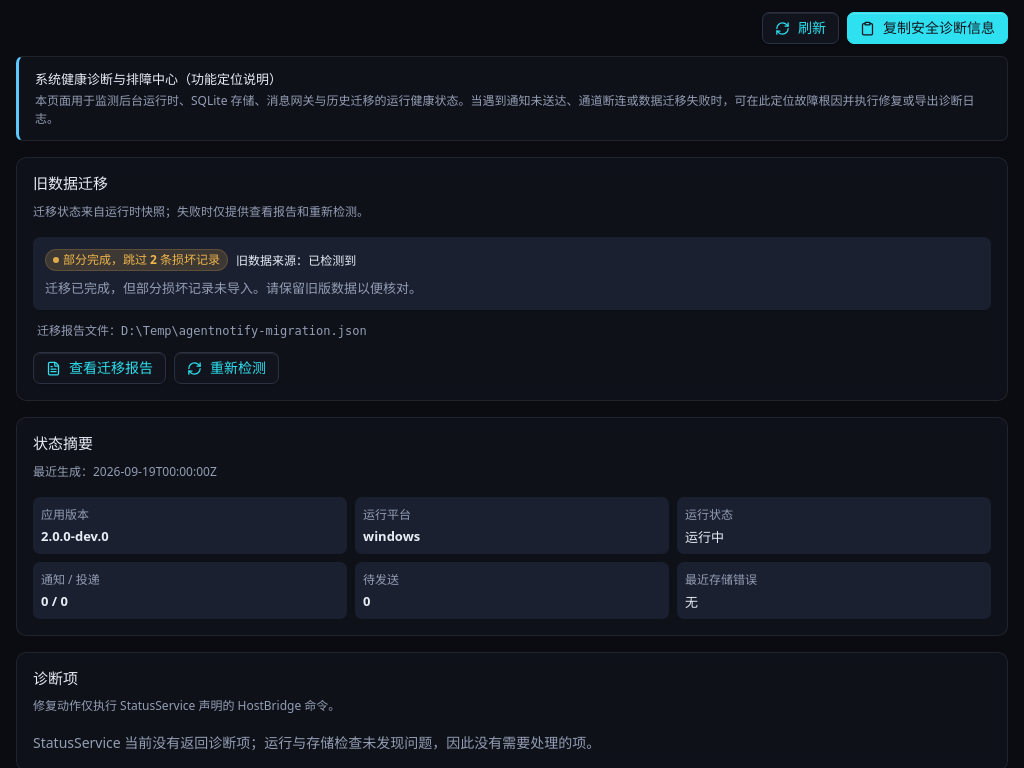
MigrationDiagnostics › shows skipped records and opens the migration report
Check: the text "部分完成，跳过 2 条损坏记录" is shown, box 45,249 -> 228,271
Click the button "查看迁移报告": (100, 368) 33,352 -> 166,384
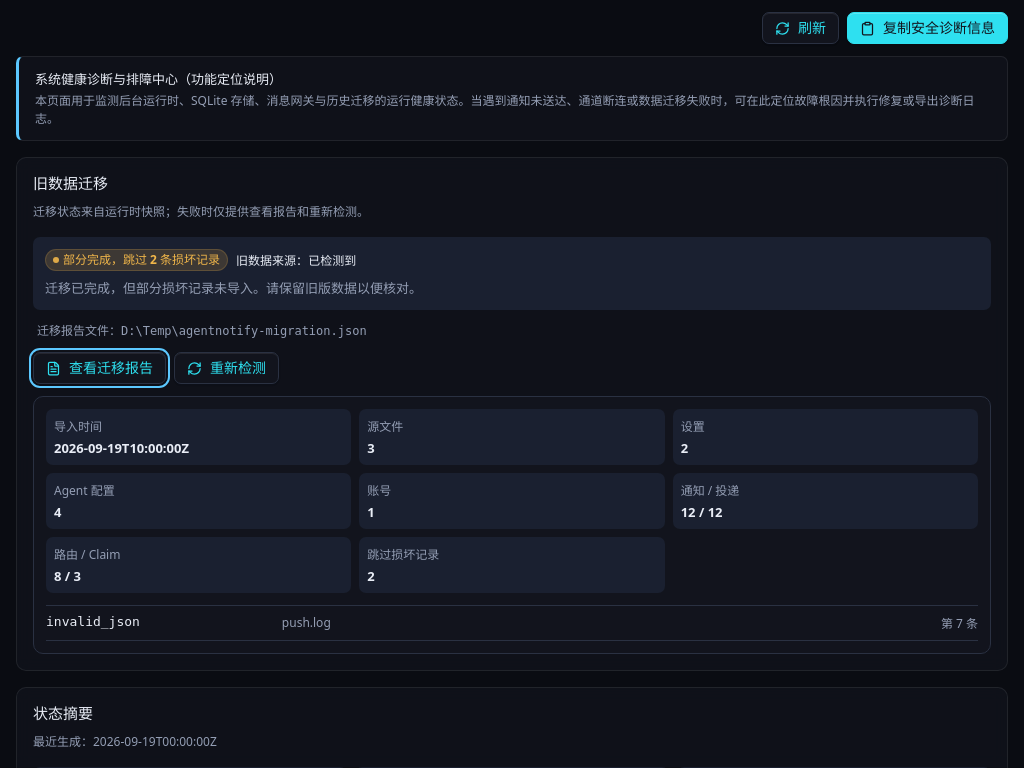
Check: the text "invalid_json" is shown, box 46,614 -> 140,629
Check: the text "push.log" is shown, box 282,614 -> 331,631
